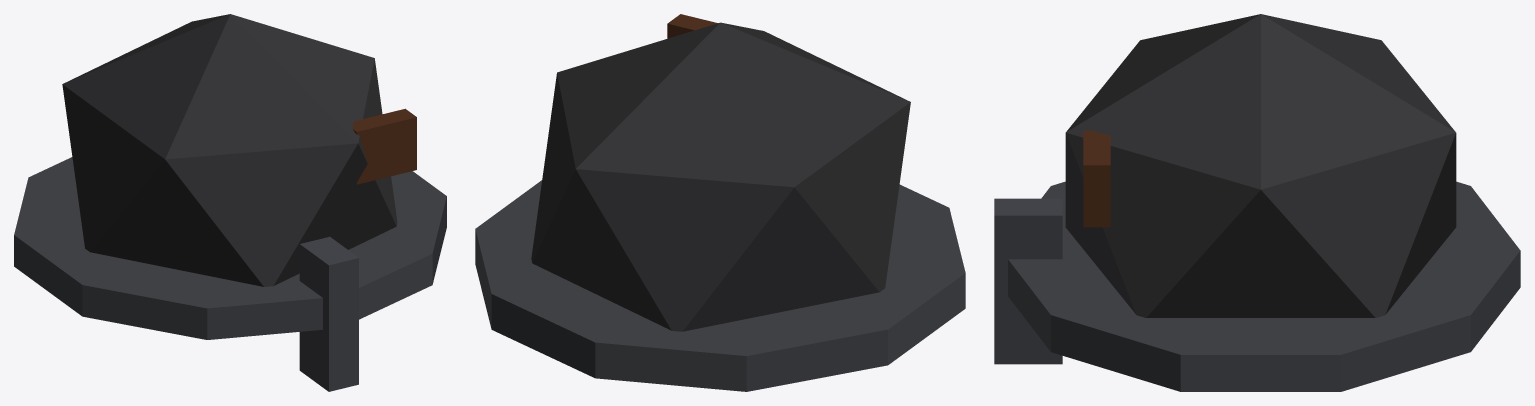
Rendered from watch_helm.glb.
The picture shows the model from 3 angles, left to right: view 1: azimuth 30°, elevation 25°; view 2: azimuth 150°, elevation 25°; view 3: azimuth 270°, elevation 25°; orthographic projection. The views are drawn at different scales.
Parts seen in each view (by area): view 1: WatchHelm; view 2: WatchHelm; view 3: WatchHelm.
Part boxes in pixels (left/top/right/bottom): WatchHelm: left=14, top=14, right=446, bottom=391; WatchHelm: left=475, top=14, right=965, bottom=391; WatchHelm: left=994, top=14, right=1520, bottom=391.
Bounding box in the file's own units: 0.3614 × 0.276 × 0.385.
